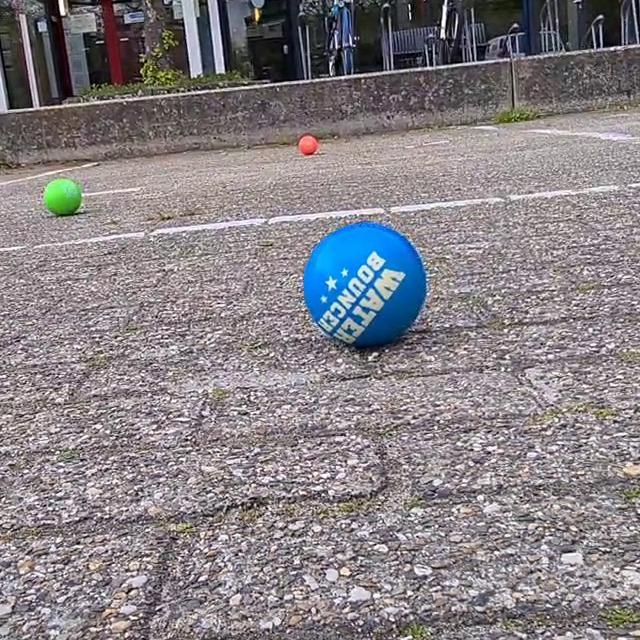ball: (42, 173, 84, 220), (298, 132, 320, 157)
